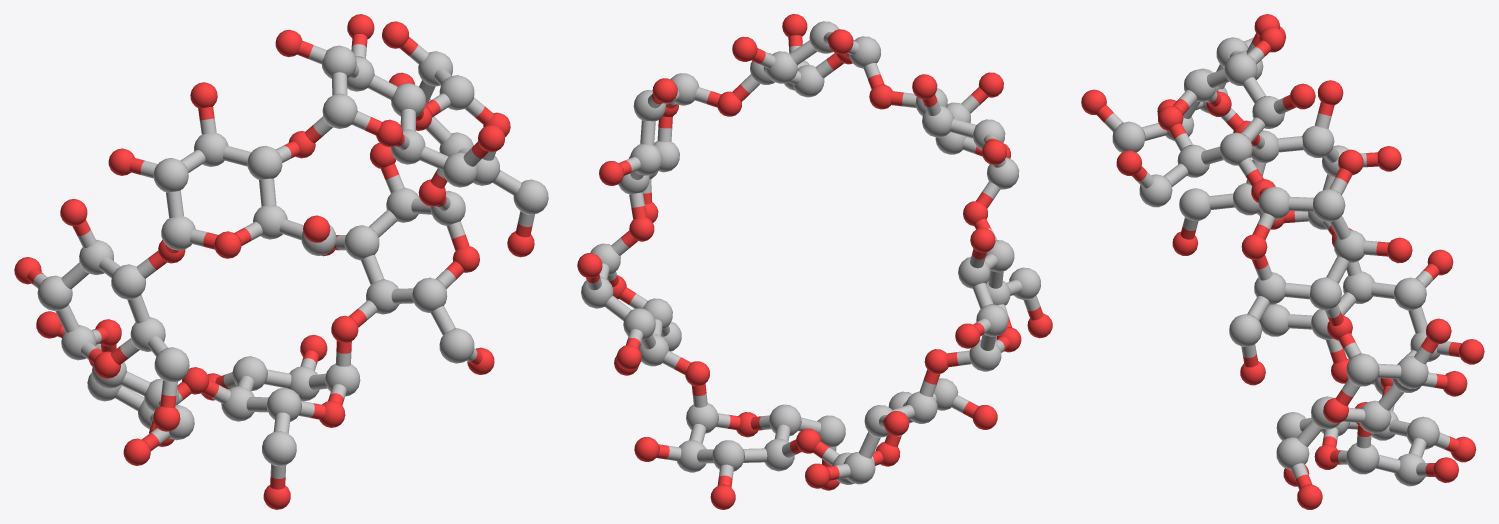
Rendered from Cyclodextrin.glb.
The picture shows the model from 3 angles, left to right: view 1: azimuth 30°, elevation 25°; view 2: azimuth 150°, elevation 25°; view 3: azimuth 270°, elevation 25°; orthographic projection. The views are drawn at different scales.
Visible parts, largest first — view 1: node-0; view 2: node-0; view 3: node-0.
Part boxes in pixels (box(x1,y1,x2,y2)): node-0: box(14, 14, 548, 509); node-0: box(577, 14, 1052, 509); node-0: box(1081, 14, 1484, 509).
Size of the model in its own units: 13.95 by 14.21 by 11.36.
